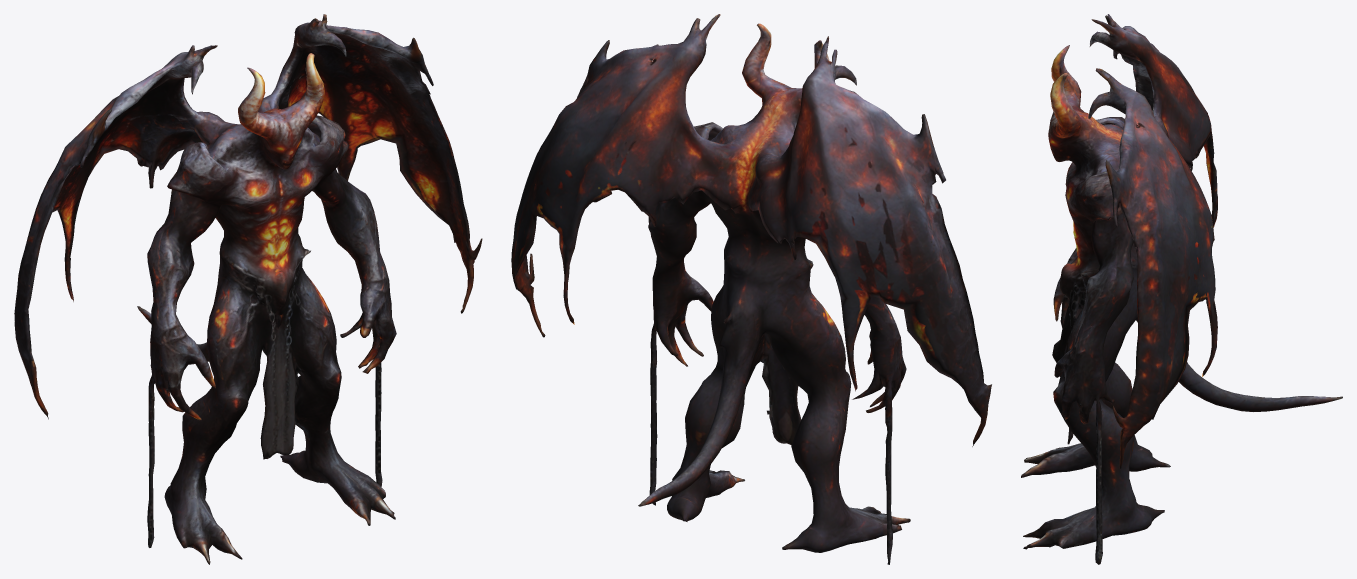
The model's file is under_world_demon.glb.
3 views of the same model, side by side, from view 1: azimuth 30°, elevation 25°; view 2: azimuth 150°, elevation 25°; view 3: azimuth 270°, elevation 25° (orthographic). The views are drawn at different scales.
Parts seen in each view (by area): view 1: Mesh1_Mesh1.007_2; view 2: Mesh1_Mesh1.007_2; view 3: Mesh1_Mesh1.007_2.
Boxes of the visible parts, box(x1,y1,x2,y2) form: Mesh1_Mesh1.007_2: box(14, 14, 482, 564); Mesh1_Mesh1.007_2: box(511, 14, 991, 564); Mesh1_Mesh1.007_2: box(1021, 14, 1342, 564).
Bounding box in the file's own units: 1.89 × 1.98 × 1.23.
Materials: 1 (1 with a texture image).
